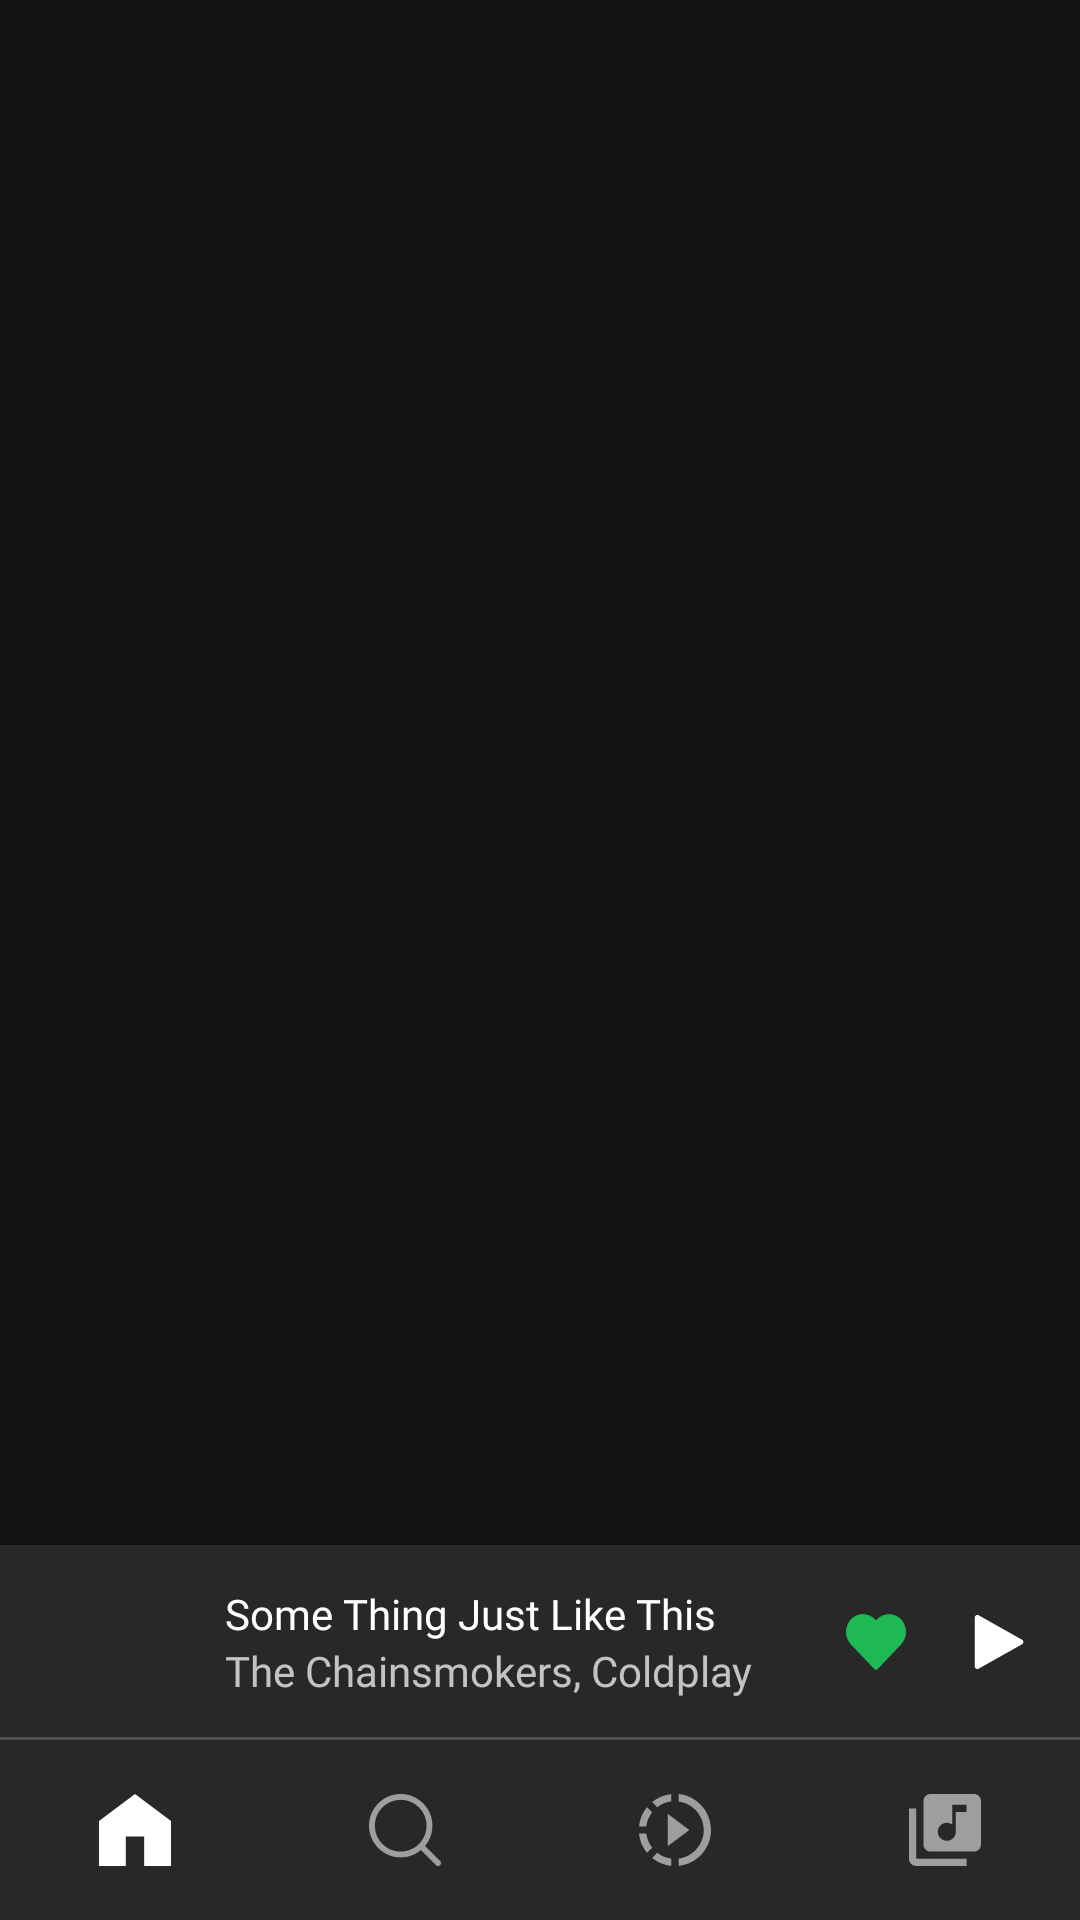

Icon click points for this 1080px×1920px phone screenshot, format (x,y):
liked: (876,1642)
